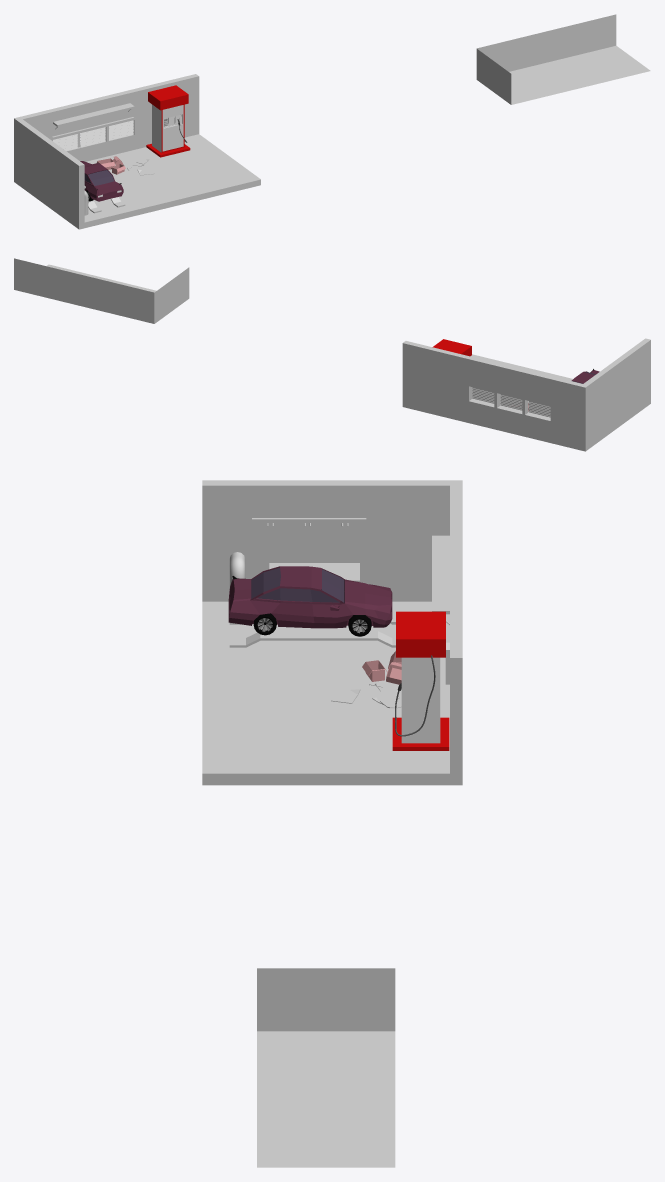
Rendered from гараж (2).fbx.
3 views of the same model, one above another, from view 1: azimuth 30°, elevation 25°; view 2: azimuth 150°, elevation 25°; view 3: azimuth 270°, elevation 25° (orthographic). The views are drawn at different scales.
Visible parts, largest first — view 1: гараж, основные размеры, азс, машина, решетки, полка; view 2: гараж, основные размеры, решетки, азс; view 3: гараж, основные размеры, машина, азс, Plane, полка, вешалка.
Boxes of the visible parts, x1=… form: гараж: x1=14, y1=74, x2=260, y2=229; основные размеры: x1=476, y1=14, x2=650, y2=104; азс: x1=146, y1=85, x2=190, y2=157; машина: x1=80, y1=161, x2=123, y2=201; решетки: x1=53, y1=120, x2=133, y2=150; полка: x1=53, y1=103, x2=134, y2=126; гараж: x1=402, y1=338, x2=650, y2=451; основные размеры: x1=14, y1=258, x2=189, y2=323; решетки: x1=472, y1=387, x2=550, y2=417; азс: x1=432, y1=339, x2=471, y2=356; гараж: x1=202, y1=480, x2=462, y2=785; основные размеры: x1=257, y1=968, x2=395, y2=1167; машина: x1=228, y1=566, x2=392, y2=636; азс: x1=392, y1=611, x2=449, y2=750; Plane: x1=229, y1=615, x2=395, y2=647; полка: x1=432, y1=535, x2=449, y2=614; вешалка: x1=252, y1=518, x2=366, y2=527.
Size of the model in its own units: 11730 by 1218 by 2261.
